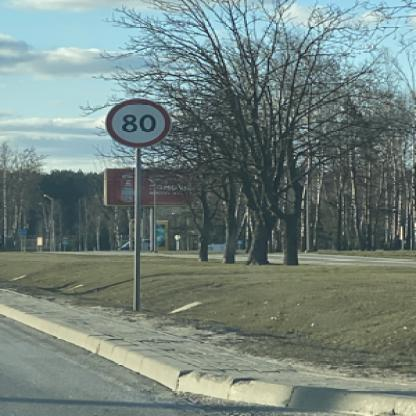Speed Limit 80: (107, 99, 170, 146)
